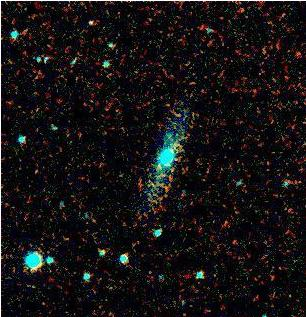star: (19, 244, 49, 274)
